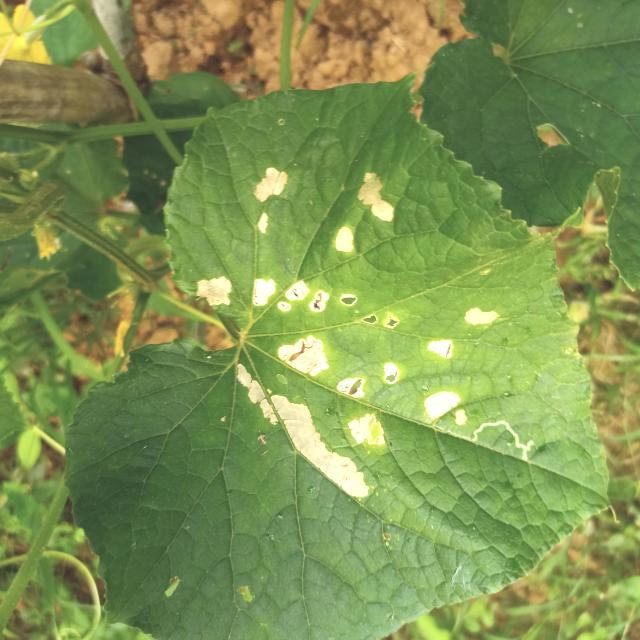disease_cucumber: (190, 268, 405, 499), (421, 306, 499, 424), (331, 167, 397, 259), (250, 165, 288, 236)
